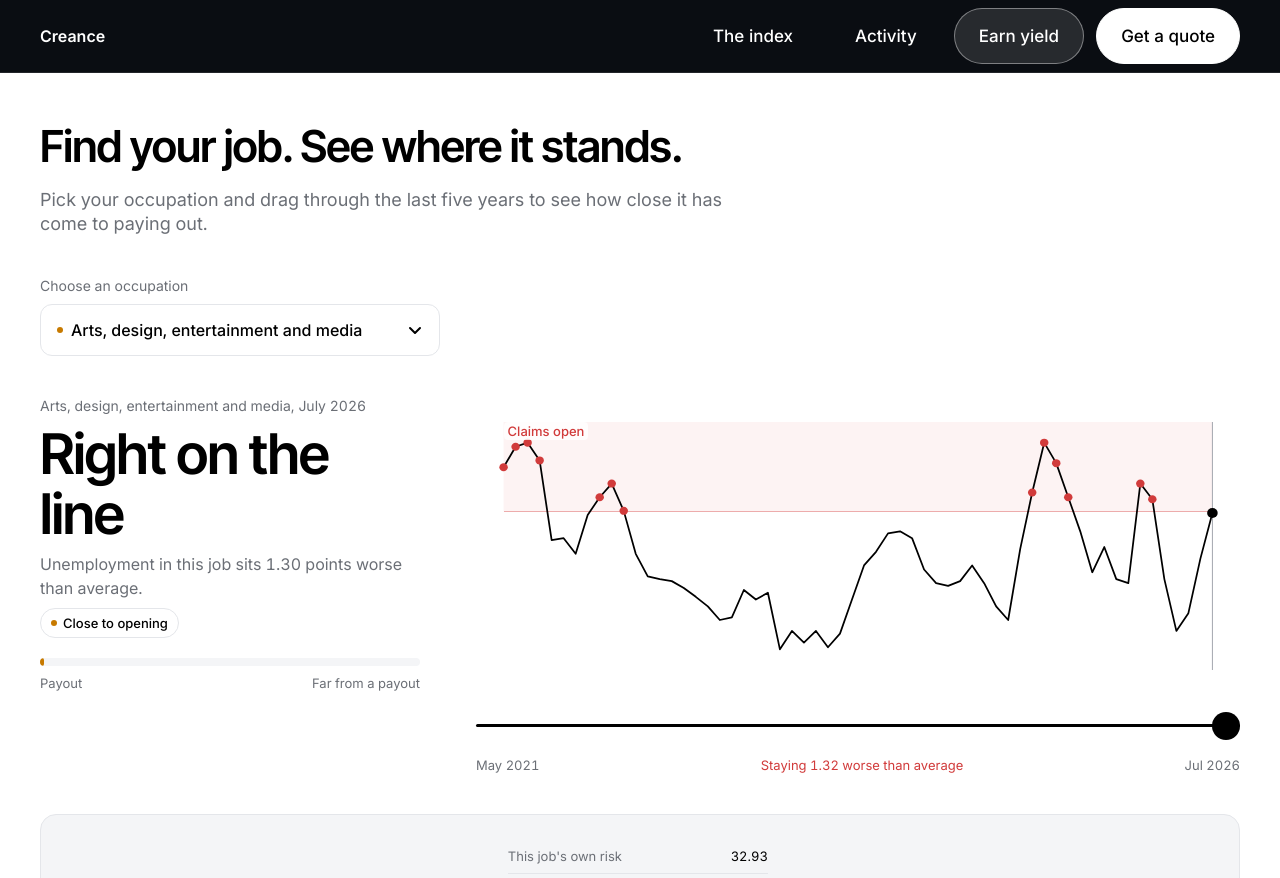
Test case: the picker › offers the fifteen occupations in the addendum order, as buttons, once opened
This screenshot has width=1280, height=878.
Click the button at (240, 330), box [40,304,440,356]
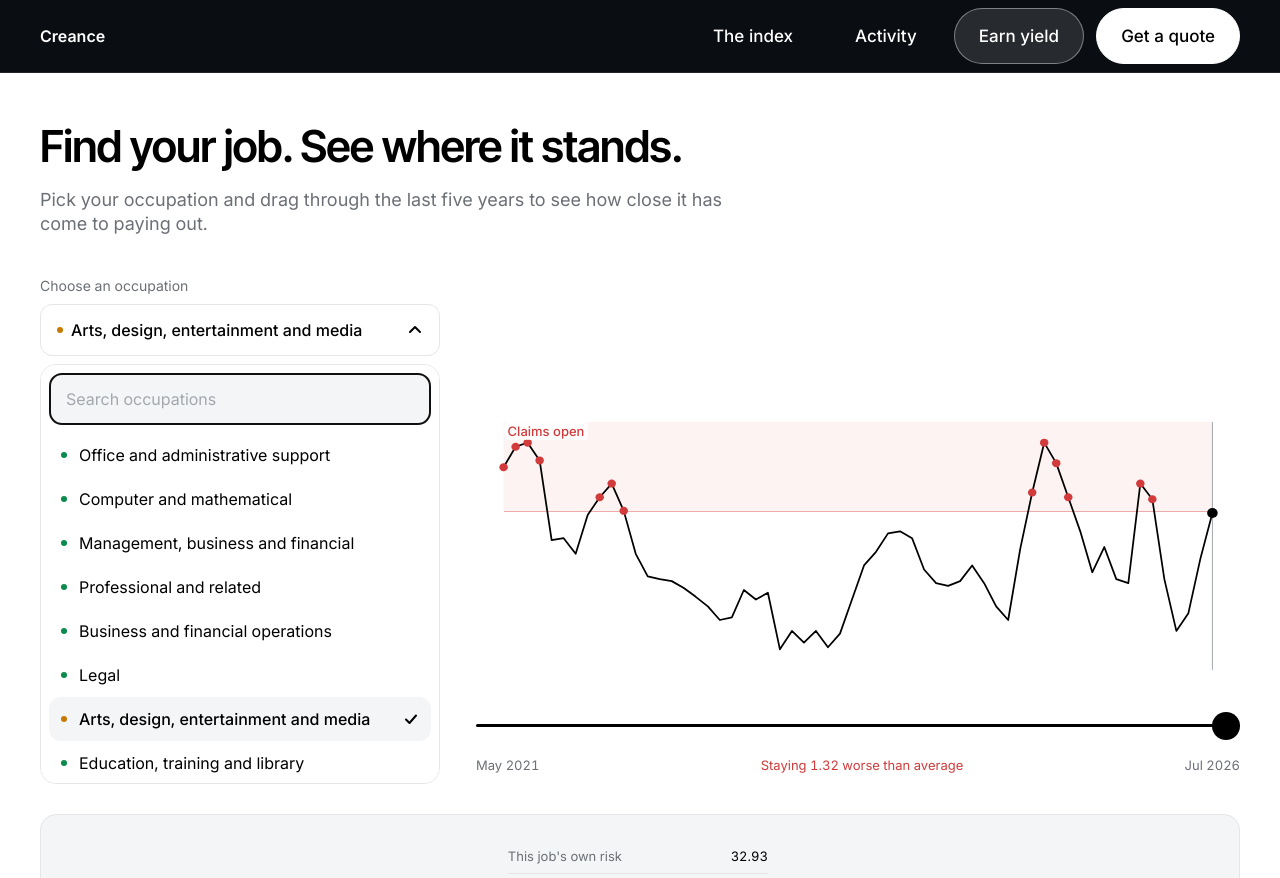
Result: the 1st button "Arts, design, entertainment and media" is expanded at [40,304,440,356]
Result: the button "Office and administrative support" is shown at [49,433,431,477]
Result: the button "Computer and mathematical" is shown at [49,477,431,521]
